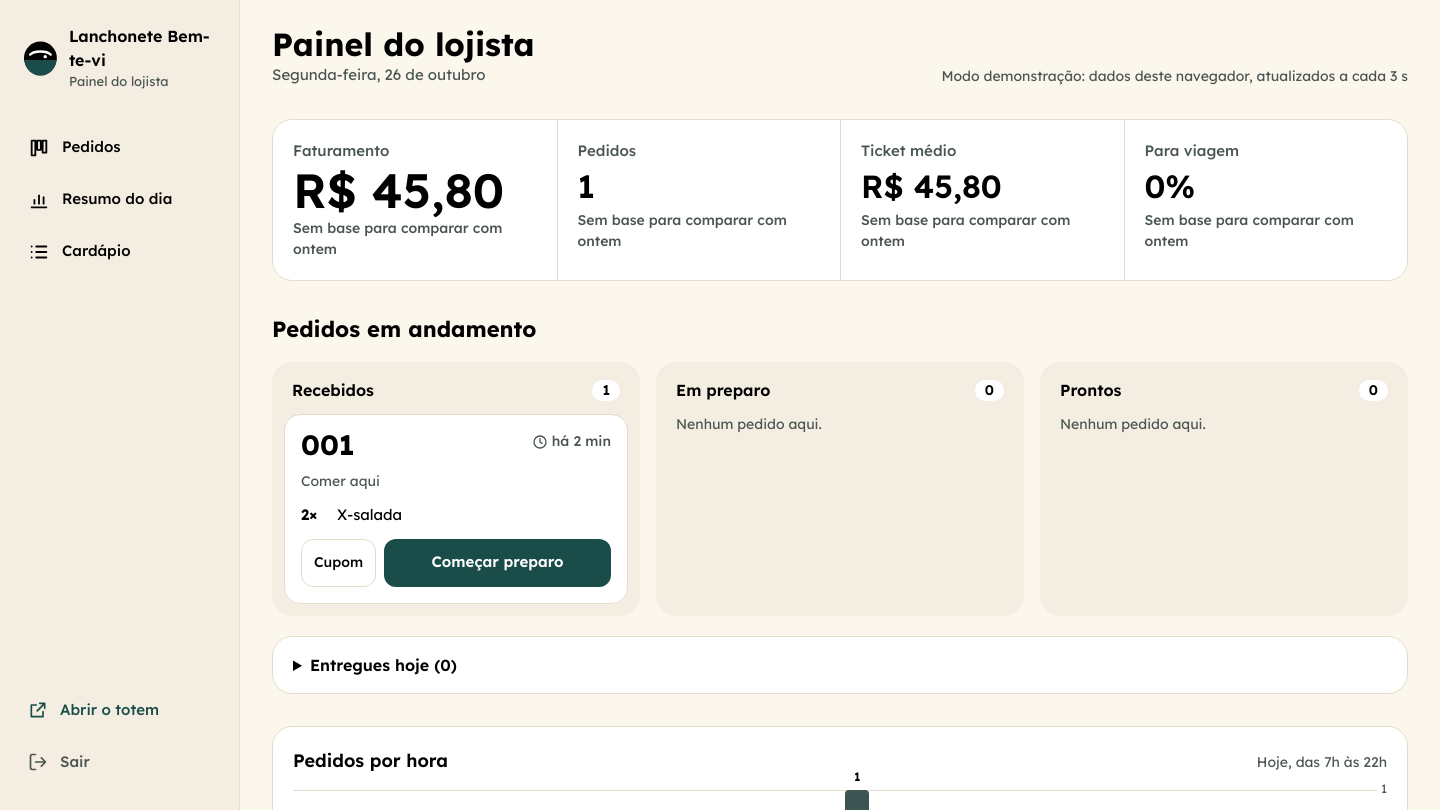
PainelApp › moves an order through the kitchen and lets the merchant undo the last step
Click the button "Começar preparo" at {"x": 498, "y": 562}, box 384,538 -> 611,586
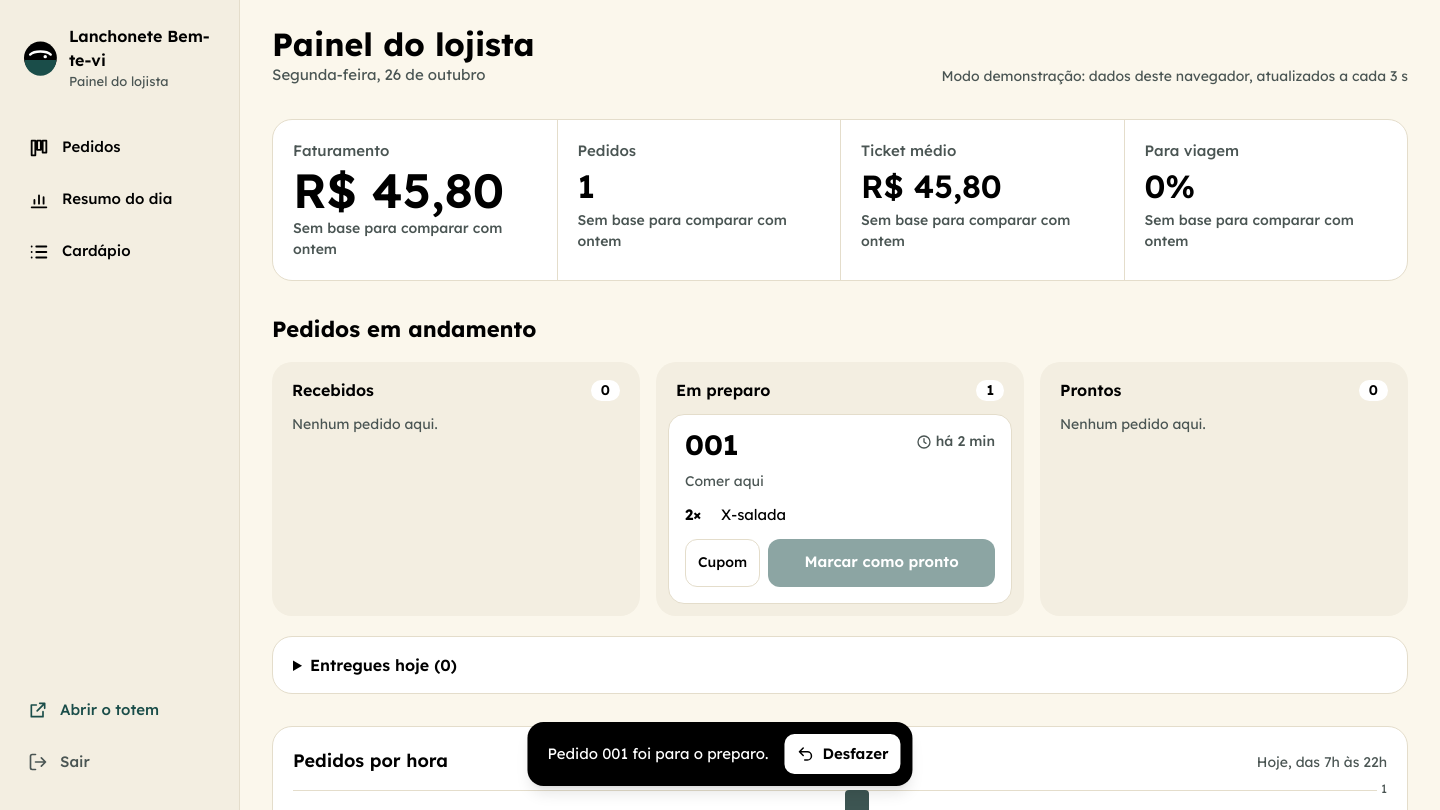
Expected: the element named "Pedido 001" is shown, 668,414 -> 1012,604
Now the message shows "Pedido 001 foi para o preparo.", box 528,722 -> 913,786
Click the button "Desfazer" at {"x": 842, "y": 754}, box 784,734 -> 900,774
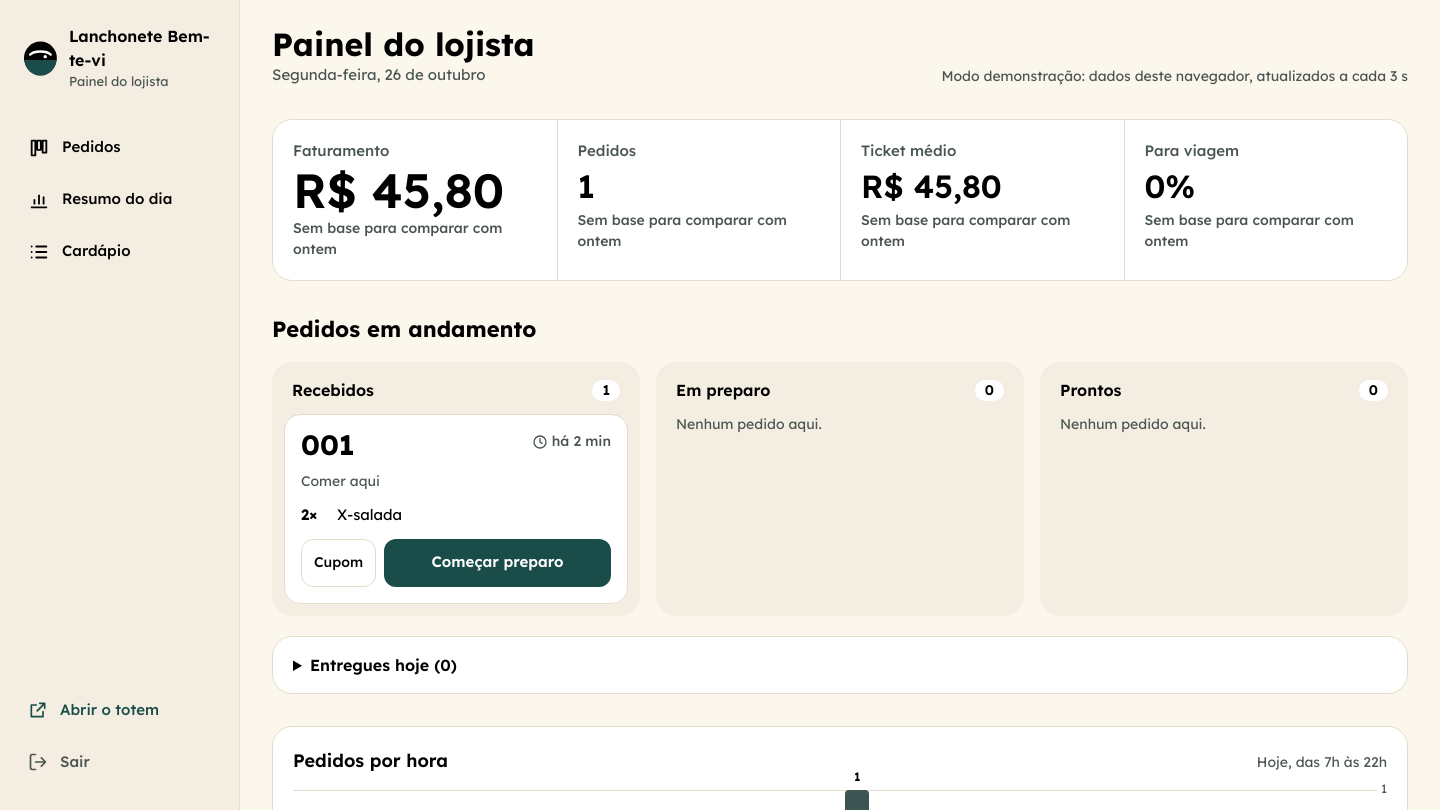
Expected: the element named "Pedido 001" is shown, 284,414 -> 628,604
Now the message "Pedido 001 foi para o preparo. Desfazer" is gone
